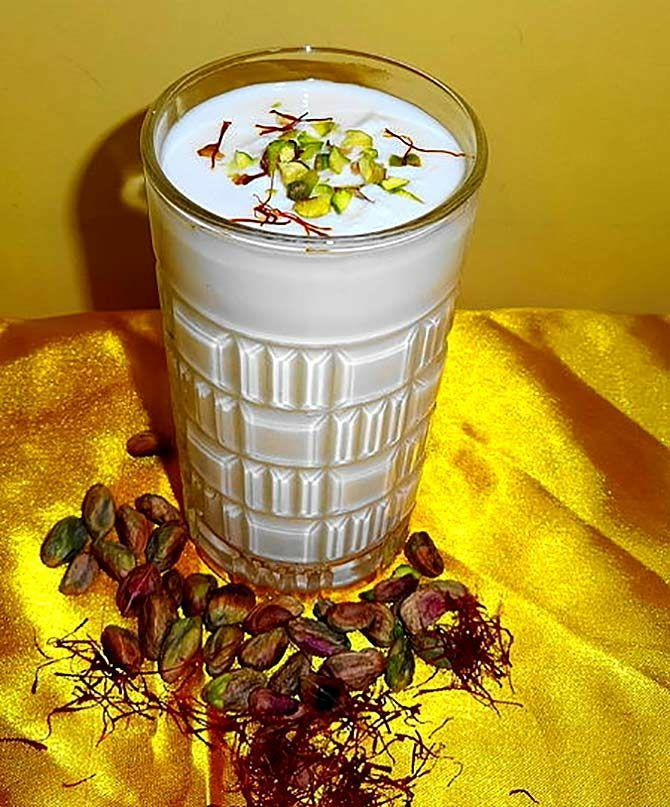Lassi: (152, 79, 467, 563)
